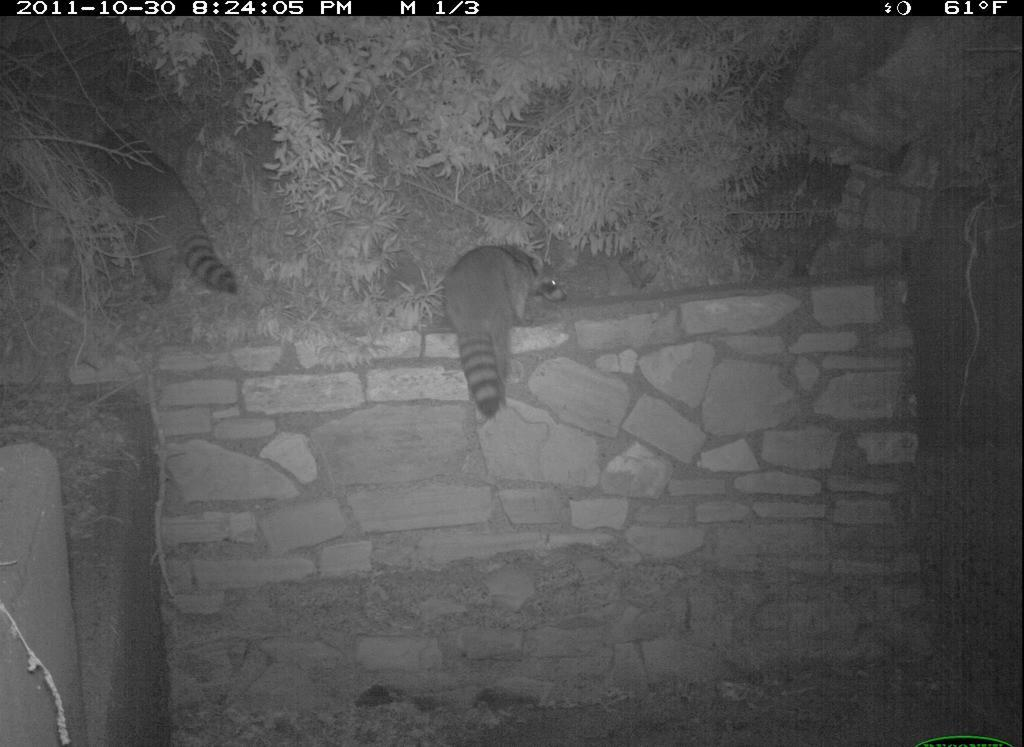raccoon: (96, 125, 248, 310)
